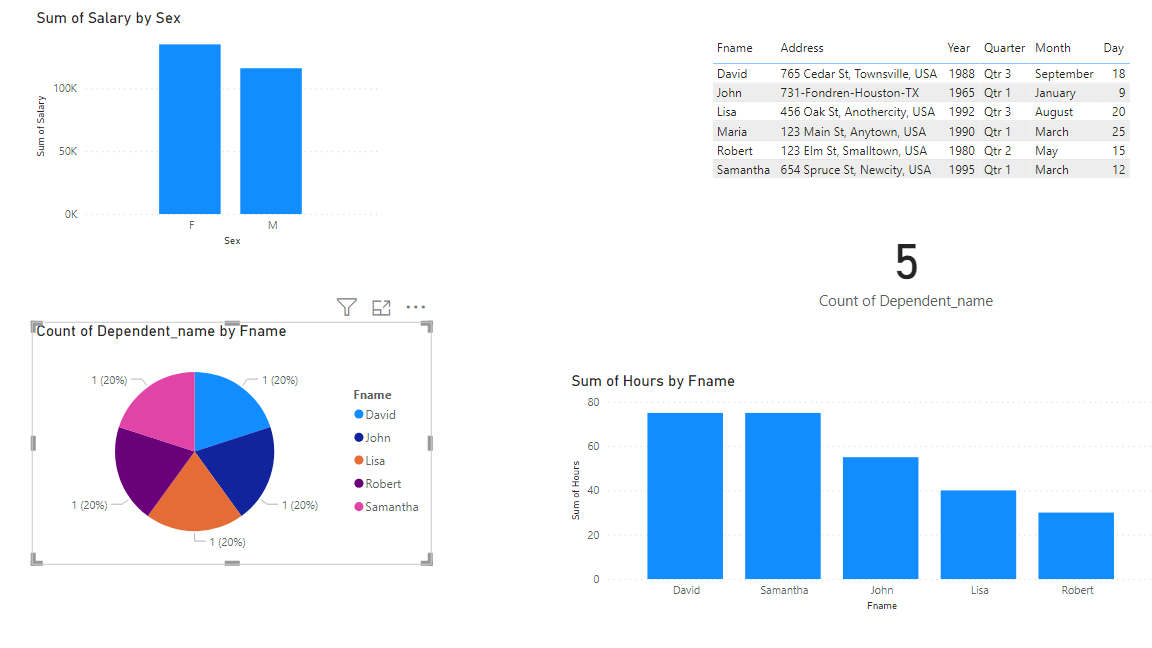

The dashboard page shown, as its layout file describes it:
{"tool":"powerbi","page":{"name":"Page 1","canvas":[1280,720],"ordinal":0},"visuals":[{"type":"columnChart","fields":{"Category":["azure_company employee.Sex"],"Y":["azure_company employee.Salary"]},"box":[42.5,16.5,385.3,266],"z":0},{"type":"tableEx","fields":{"Values":["azure_company employee.Fname","azure_company employee.Address","azure_company employee.Bdate.Variation.Date Hierarchy.Year","azure_company employee.Bdate.Variation.Date Hierarchy.Quarter","azure_company employee.Bdate.Variation.Date Hierarchy.Month","azure_company employee.Bdate.Variation.Date Hierarchy.Day"]},"box":[782.9,43.9,497.7,170],"z":1},{"type":"card","fields":{"Values":["azure_company dependent.Dependent_name"]},"box":[752.7,213.9,497.7,170],"z":2},{"type":"columnChart","fields":{"Y":["azure_company works_on.Hours"],"Category":["azure_company employee.Fname"]},"box":[629.3,415.4,651.2,267.4],"z":3},{"type":"pieChart","fields":{"Category":["azure_company employee.Fname"],"Y":["azure_company dependent.Dependent_name"]},"box":[42.5,360.6,438.7,266],"z":4}]}

Visuals, with their boxes in screenshot pixels (x1, y1, x2, y2), scaled from the page's 1280x720 canvas onto the 1152x648 screenshot:
columnChart - azure_company employee.Sex x azure_company employee.Salary: left=38, top=15, right=385, bottom=254
tableEx - azure_company employee.Fname x azure_company employee.Address: left=705, top=40, right=1151, bottom=193
card - azure_company dependent.Dependent_name: left=677, top=193, right=1125, bottom=346
columnChart - azure_company works_on.Hours x azure_company employee.Fname: left=566, top=374, right=1151, bottom=615
pieChart - azure_company employee.Fname x azure_company dependent.Dependent_name: left=38, top=325, right=433, bottom=564
